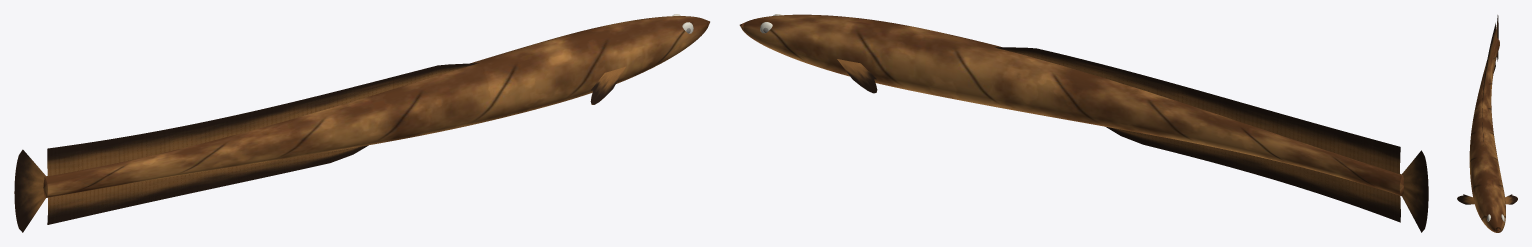
File: fish_eel_cooked.gltf
The picture shows the model from 3 angles, left to right: view 1: azimuth 30°, elevation 25°; view 2: azimuth 150°, elevation 25°; view 3: azimuth 270°, elevation 25°; orthographic projection. The views are drawn at different scales.
Parts seen in each view (by area): view 1: fish_eel_cooked; view 2: fish_eel_cooked; view 3: fish_eel_cooked.
Part boxes in pixels (x1,y1,x2,y2): fish_eel_cooked: (14,14,709,232); fish_eel_cooked: (739,14,1428,232); fish_eel_cooked: (1457,15,1517,232).
Size of the model in its own units: 0.752 by 0.0864 by 0.0988.
6 materials, 4 textured.
